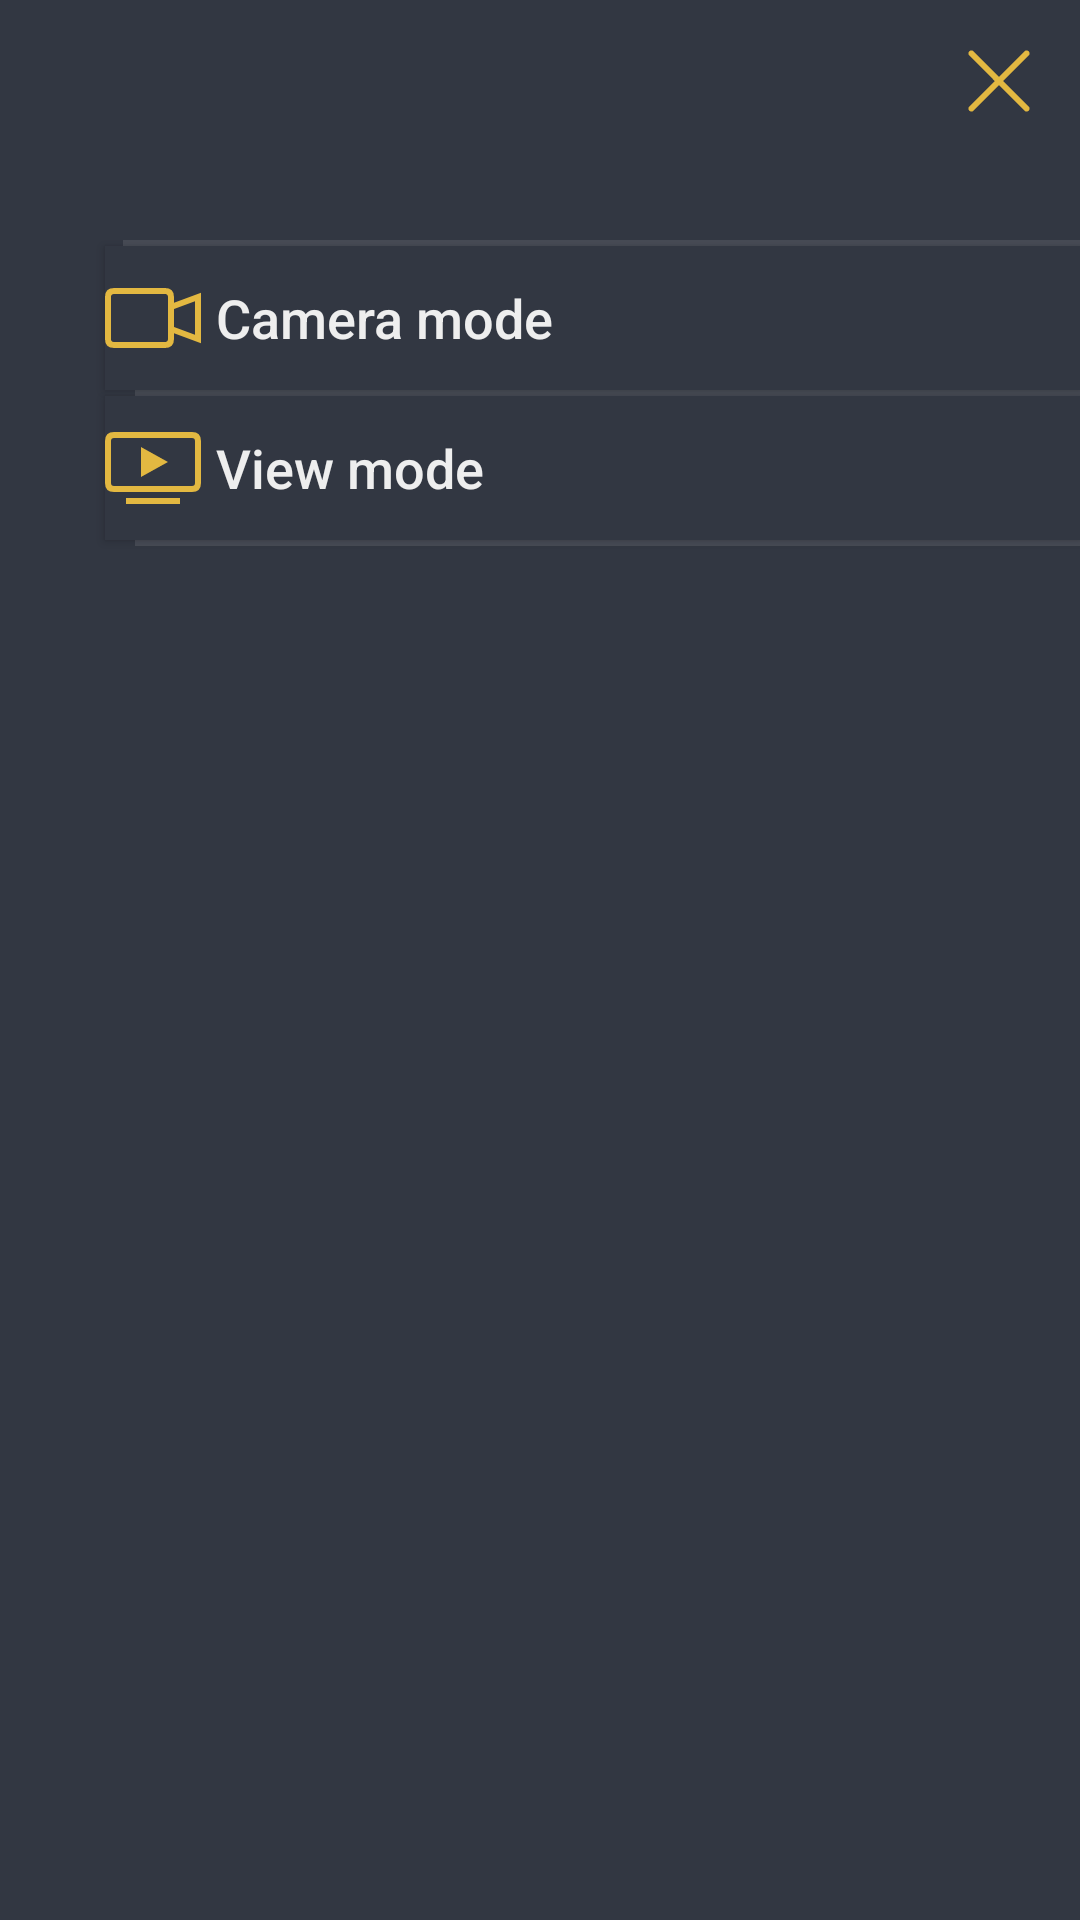

Screen size 1080px x 1920px. Icon name, then its box in pixels as (x1, y1, x2, y2):
close: (968, 50, 1030, 112)
